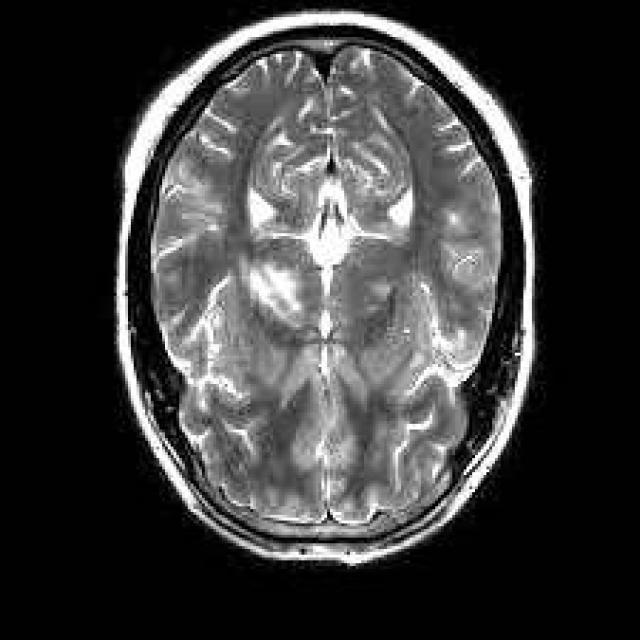notumor: (119, 14, 540, 569)
